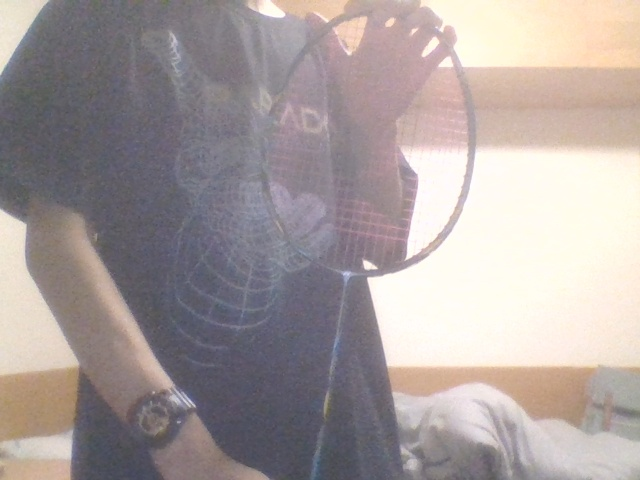human: (1, 1, 459, 480)
racket: (259, 8, 476, 480)
